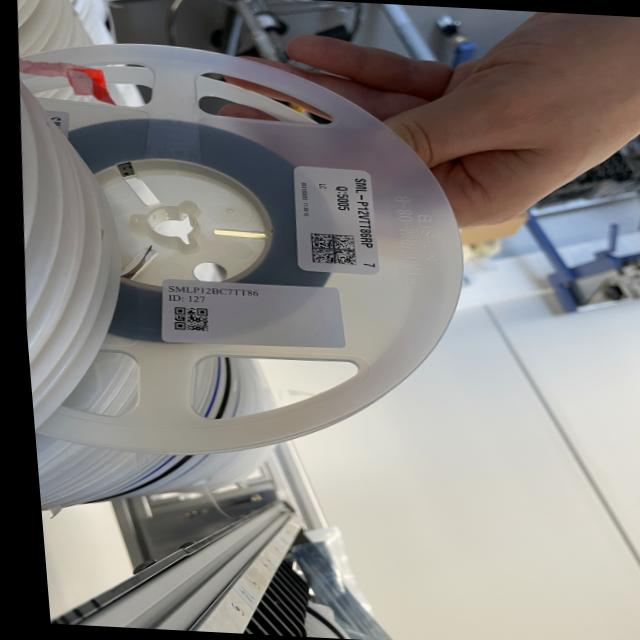datamatrix: (303, 232, 355, 268)
qrcode: (165, 307, 206, 335)
